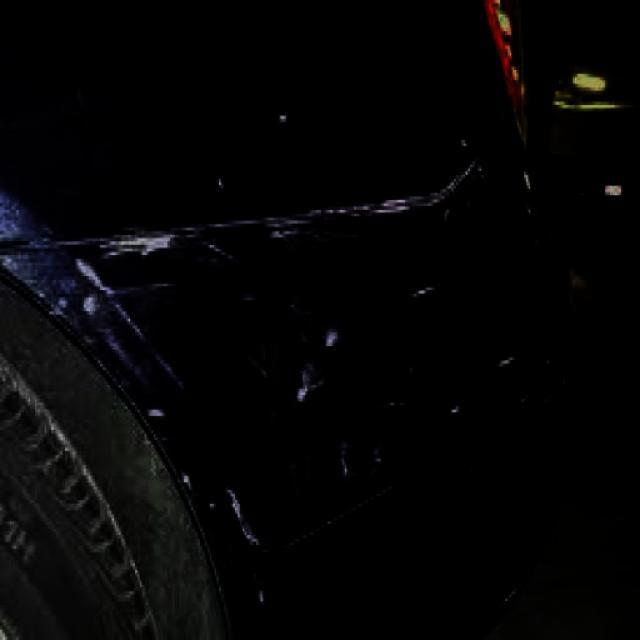car damage: (12, 140, 492, 256), (38, 256, 195, 418), (231, 276, 349, 423), (275, 392, 405, 509), (180, 471, 284, 614)
